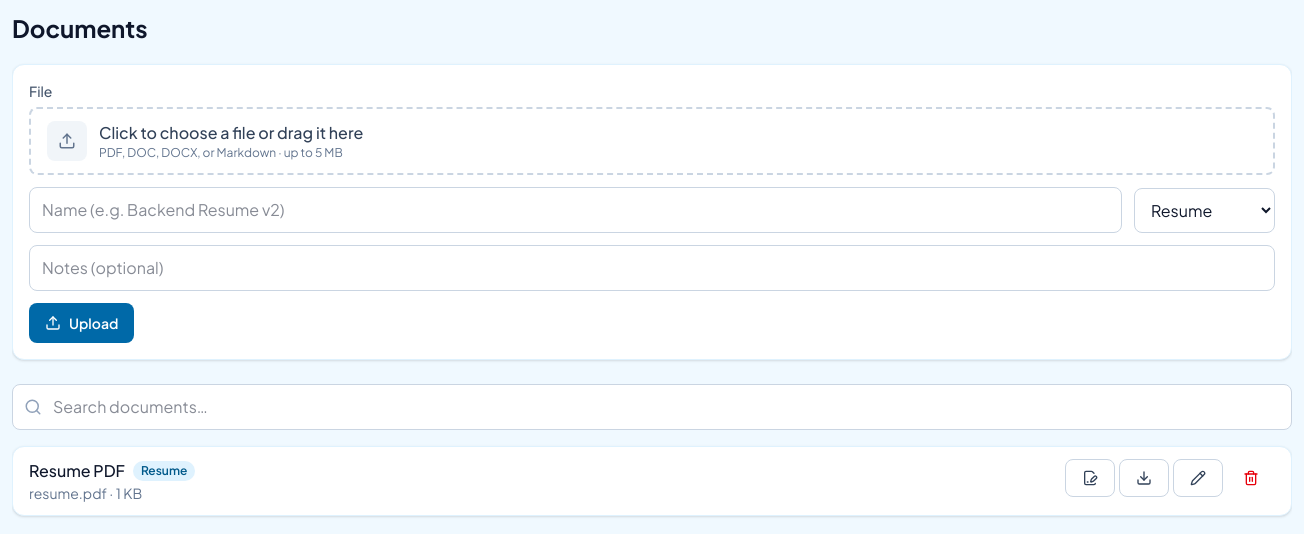
it: Open in Editor shows an error when no text can be extracted
Expected: the text "Resume PDF" is shown, 29,459 -> 125,483
Click the button named "open resume pdf in editor" at (1090, 478), box 1065,459 -> 1115,497
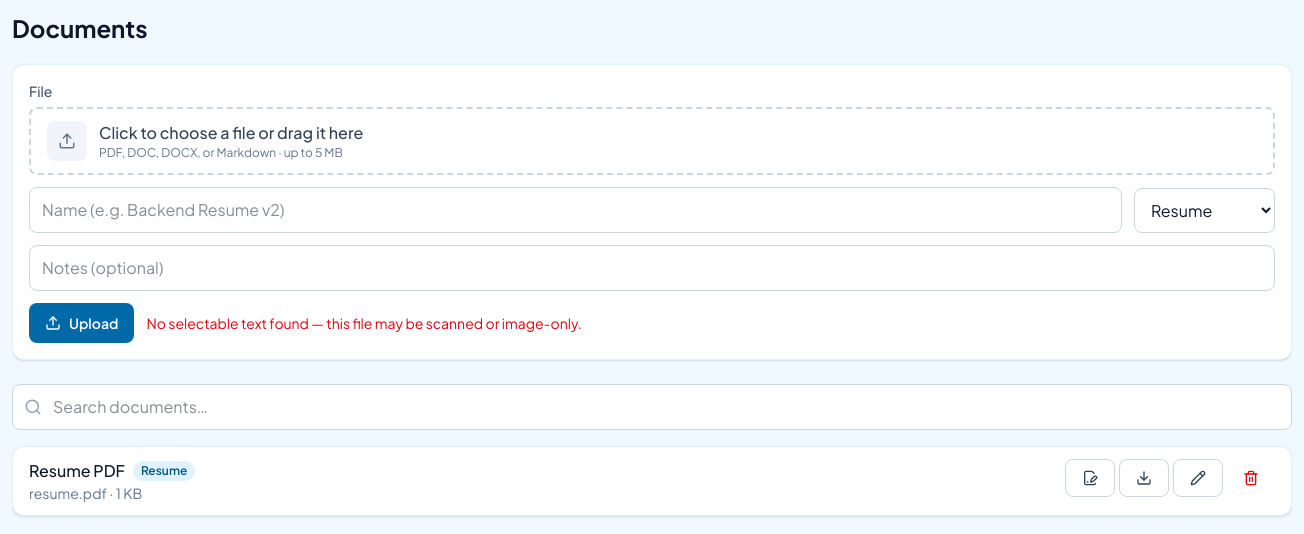
Now the text "No selectable text found — this file may be scanned or image-only." is shown, box 146,313 -> 582,333
